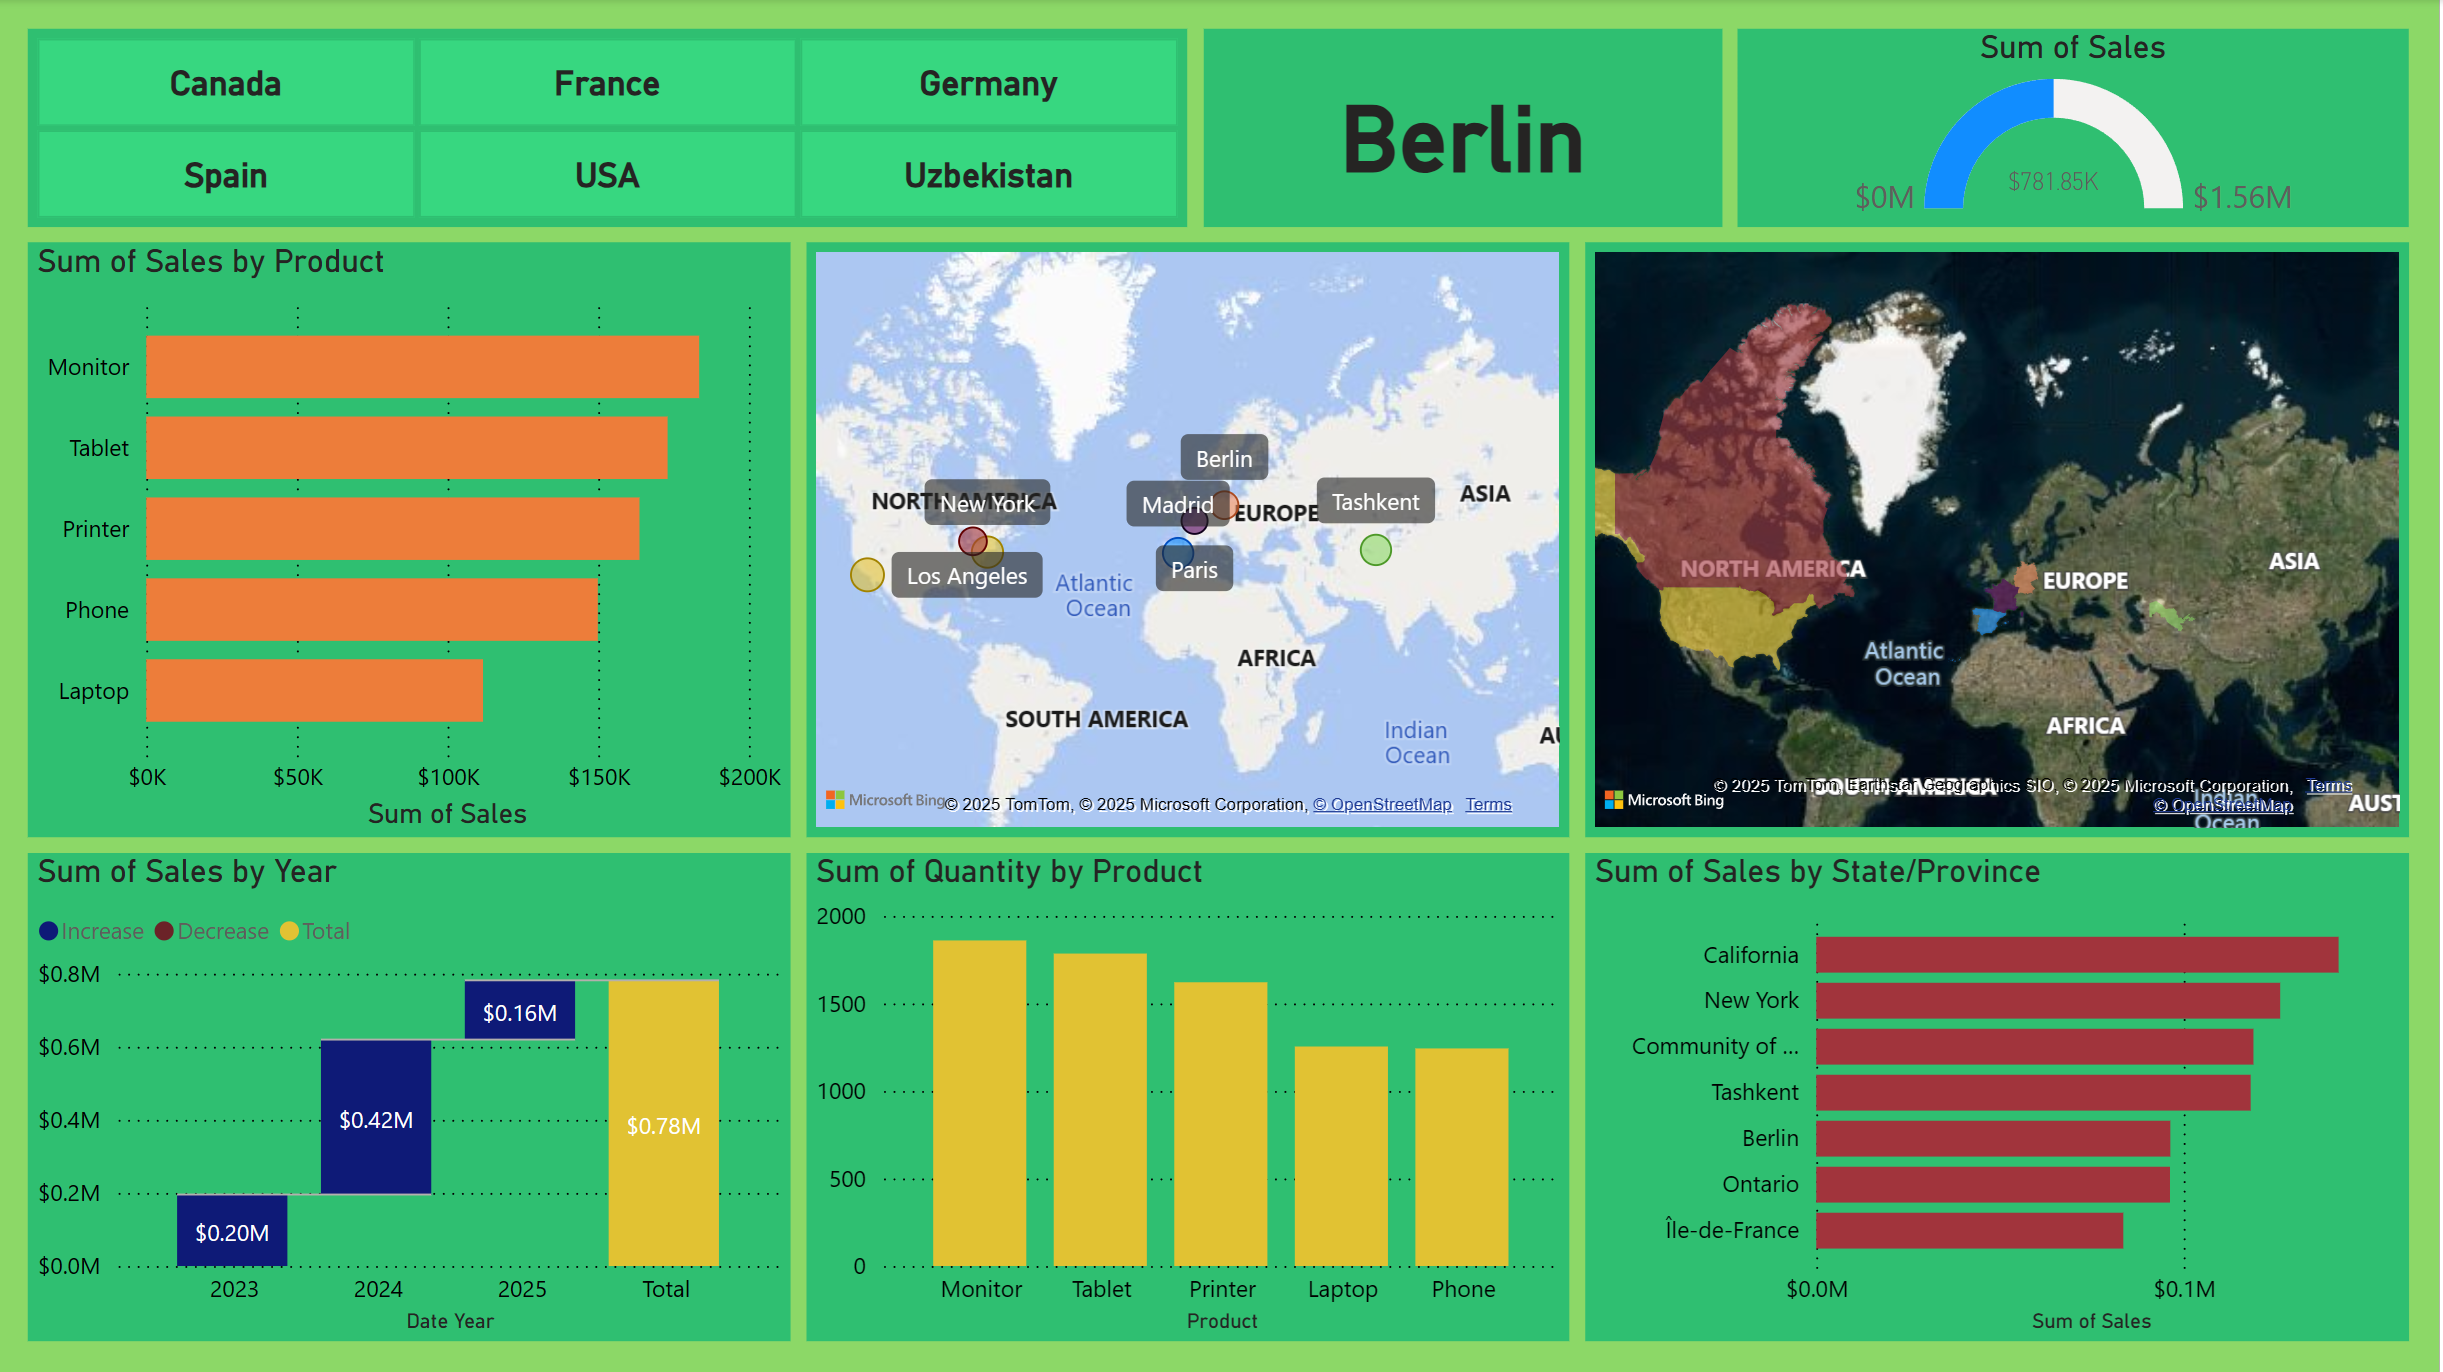

The dashboard page shown, as its layout file describes it:
{"tool":"powerbi","page":{"name":"Page 1","canvas":[1280,720],"ordinal":0},"visuals":[{"type":"advancedSlicerVisual","fields":{"Values":["Map.Country"]},"box":[16,16,608,104],"z":0},{"type":"clusteredBarChart","fields":{"Y":["Sum(Map.Sales)"],"Category":["Map.Product"]},"box":[16,128,400,312],"z":1},{"type":"map","fields":{"Category":["Map.City"],"Y":["Avg(Map.Latitude)"],"X":["Avg(Map.Longitude)"],"Size":["Sum(Map.Sales)"]},"box":[424,128,400,312],"z":2},{"type":"filledMap","fields":{"Category":["Map.Country"],"Y":["Avg(Map.Latitude)"],"X":["Avg(Map.Longitude)"]},"box":[832,128,432,312],"z":3},{"type":"waterfallChart","fields":{"Y":["Sum(Map.Sales)"],"Category":["Map.Date.Variation.Date Hierarchy.Year"]},"box":[16,448,400,256],"z":4},{"type":"columnChart","fields":{"Y":["Sum(Map.Quantity)"],"Category":["Map.Product"]},"box":[424,448,400,256],"z":5},{"type":"clusteredBarChart","fields":{"Y":["Sum(Map.Sales)"],"Category":["Map.State/Province"]},"box":[832,448,432,256],"z":6},{"type":"gauge","fields":{"Y":["Sum(Map.Sales)"]},"box":[912,16,352,104],"z":7},{"type":"card","fields":{"Values":["Min(Map.City)"]},"box":[632,16,272,104],"z":8}]}

Visuals, with their boxes in screenshot pixels (x1, y1, x2, y2), scaled from the page's 1280x720 canvas onto the 2443x1372 screenshot:
advancedSlicerVisual - Map.Country: 31:30:1191:229
clusteredBarChart - Sum(Map.Sales) x Map.Product: 31:244:794:838
map - Map.City x Avg(Map.Latitude): 809:244:1573:838
filledMap - Map.Country x Avg(Map.Latitude): 1588:244:2412:838
waterfallChart - Sum(Map.Sales) x Map.Date.Variation.Date Hierarchy.Year: 31:854:794:1342
columnChart - Sum(Map.Quantity) x Map.Product: 809:854:1573:1342
clusteredBarChart - Sum(Map.Sales) x Map.State/Province: 1588:854:2412:1342
gauge - Sum(Map.Sales): 1741:30:2412:229
card - Min(Map.City): 1206:30:1725:229
